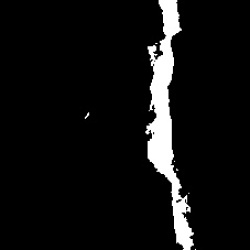crack: (146, 1, 194, 246), (87, 111, 90, 118)
